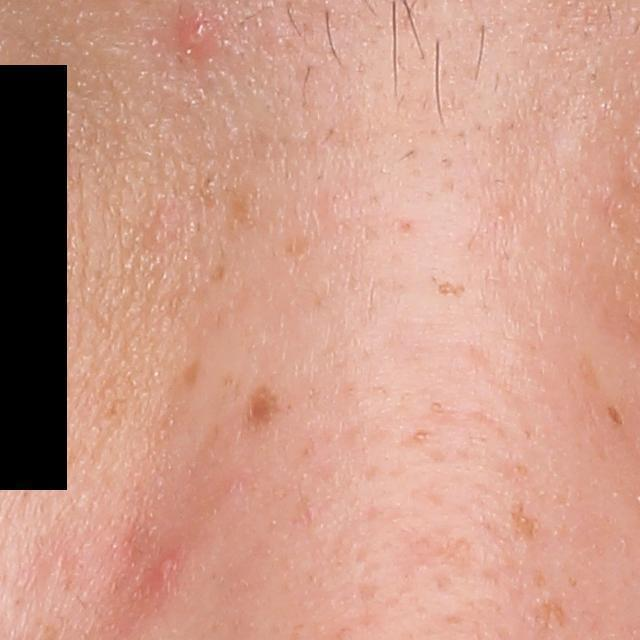melasma: (507, 497, 547, 543), (178, 357, 204, 392), (436, 279, 466, 302), (207, 262, 228, 283), (607, 405, 624, 426)
nevus: (243, 389, 283, 429)
